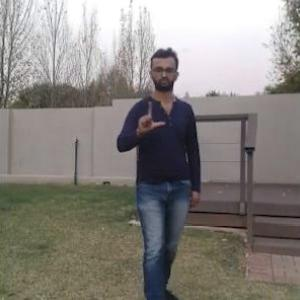land_hand: (136, 97, 165, 135)
